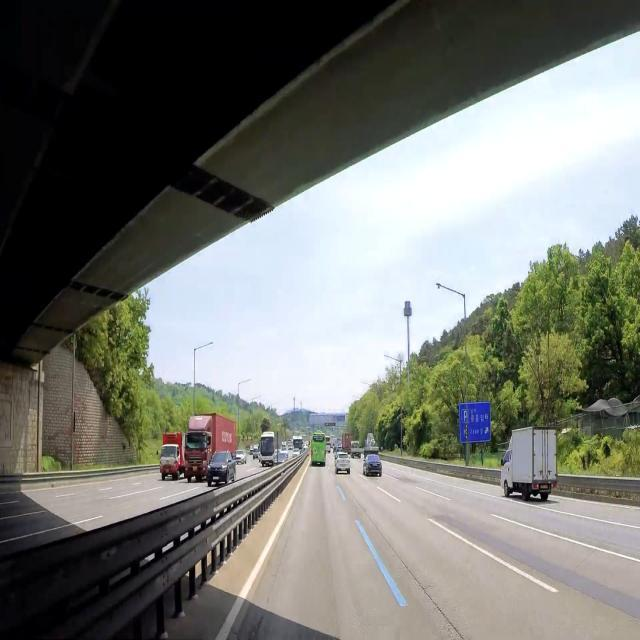car: (538, 482, 551, 494), (191, 462, 199, 476), (210, 475, 220, 484)
